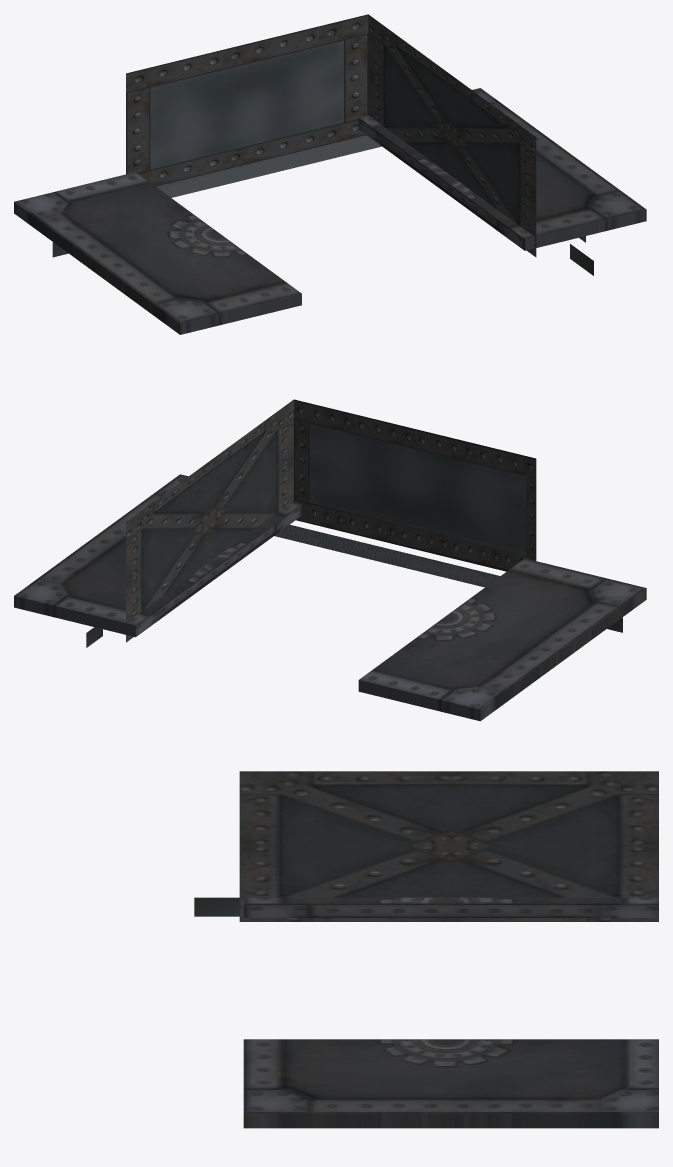
Rendered from cog_hq_elevator.glb.
The picture shows the model from 3 angles, top to bottom: view 1: azimuth 30°, elevation 25°; view 2: azimuth 150°, elevation 25°; view 3: azimuth 270°, elevation 25°; orthographic projection. The views are drawn at different scales.
Parts seen in each view (by area): view 1: ground, left-door, elevator, right-door, frame, corners; view 2: elevator, left-door, right-door, frame; view 3: elevator, right-door, left-door, corners.
Boxes of the visible parts, x1,y1,x2,y2 form: ground: [126, 14, 368, 186]; left-door: [14, 172, 301, 334]; elevator: [368, 14, 536, 257]; right-door: [358, 88, 646, 250]; frame: [156, 135, 585, 242]; corners: [52, 242, 593, 275]; elevator: [126, 399, 536, 642]; left-door: [358, 558, 646, 721]; right-door: [14, 474, 301, 637]; frame: [274, 524, 500, 587]; elevator: [239, 771, 658, 921]; right-door: [243, 1039, 658, 1128]; left-door: [243, 897, 658, 917]; corners: [194, 897, 239, 916].
Size of the model in its own units: 48.14 by 13.37 by 46.13.
11 materials, 11 textured.
